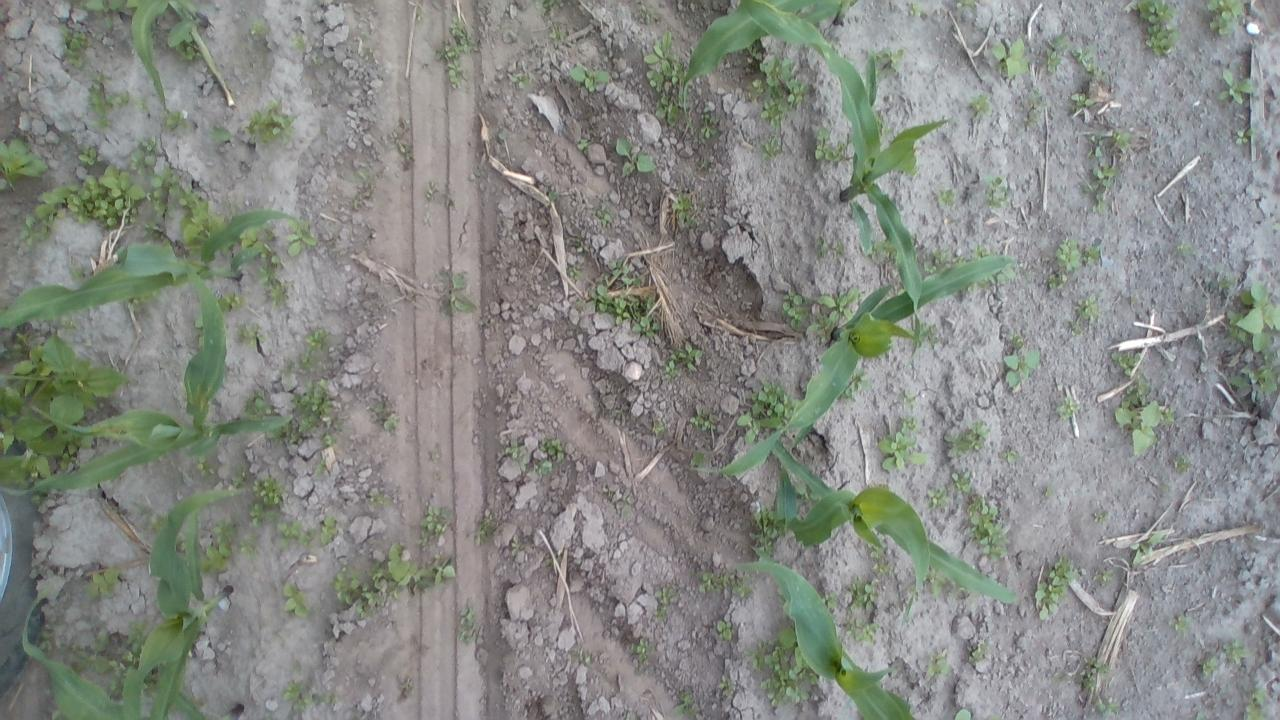Maize: (742, 2, 956, 343), (0, 253, 291, 496), (719, 257, 1014, 474), (771, 441, 1018, 606), (2, 209, 299, 328), (20, 588, 245, 720), (730, 560, 914, 720), (121, 490, 233, 719), (685, 0, 852, 88), (130, 0, 208, 109)
Weeds: (0, 328, 134, 485), (329, 540, 458, 617), (21, 162, 147, 238), (583, 261, 663, 338), (641, 30, 690, 130), (752, 628, 811, 710), (823, 576, 884, 646), (747, 54, 807, 122), (1225, 280, 1280, 352), (436, 12, 484, 94), (1114, 398, 1172, 456), (288, 380, 339, 443), (736, 380, 792, 437), (87, 68, 133, 132), (880, 409, 925, 472), (0, 138, 48, 195), (964, 494, 1008, 556), (174, 188, 224, 241), (1037, 553, 1075, 620), (200, 517, 240, 580), (1047, 240, 1100, 286), (1134, 0, 1178, 55), (70, 626, 114, 680), (250, 97, 300, 143), (1082, 160, 1120, 218), (1080, 660, 1116, 716), (148, 164, 179, 229), (1006, 335, 1040, 392), (258, 244, 290, 304), (817, 290, 857, 336), (1232, 360, 1280, 398), (439, 272, 479, 317), (614, 138, 658, 178), (990, 36, 1030, 80), (942, 421, 988, 459), (750, 510, 783, 558), (696, 564, 750, 592), (422, 504, 456, 548), (1205, 0, 1242, 36), (812, 128, 848, 164), (1218, 68, 1254, 104), (650, 581, 680, 623), (283, 577, 313, 618), (120, 620, 146, 667), (666, 340, 701, 374), (568, 67, 610, 95), (300, 327, 328, 369), (1070, 296, 1101, 332), (534, 435, 565, 471), (130, 140, 160, 177), (780, 293, 808, 332), (668, 684, 699, 719), (62, 28, 90, 66), (1046, 27, 1068, 75), (369, 397, 398, 432), (284, 221, 316, 252), (252, 476, 286, 504), (1244, 684, 1270, 720), (670, 191, 701, 221), (89, 568, 120, 596), (922, 650, 949, 681), (474, 514, 500, 546), (1112, 350, 1144, 376), (241, 224, 277, 246), (240, 323, 268, 351), (283, 680, 309, 710), (877, 46, 902, 77), (532, 0, 575, 18), (1127, 534, 1163, 555), (1015, 87, 1047, 110), (1125, 376, 1151, 403), (868, 547, 893, 575), (814, 239, 849, 259), (278, 515, 300, 546), (246, 501, 272, 527), (240, 530, 264, 558), (320, 516, 340, 549), (982, 187, 1009, 210), (970, 90, 994, 115), (460, 602, 476, 638), (219, 290, 245, 312), (970, 640, 996, 662), (505, 434, 527, 458), (692, 408, 713, 433), (1071, 47, 1093, 70), (197, 453, 216, 479), (699, 112, 718, 138), (38, 627, 56, 654), (1090, 132, 1108, 158), (952, 471, 974, 492), (1057, 397, 1079, 418), (715, 616, 734, 640), (1224, 640, 1248, 659), (84, 0, 124, 11), (1199, 654, 1218, 677), (877, 242, 898, 262), (1172, 450, 1192, 471), (549, 24, 568, 46), (926, 487, 945, 509), (310, 692, 334, 709), (252, 18, 272, 38), (162, 109, 183, 128), (1068, 93, 1094, 108), (78, 150, 102, 166), (719, 672, 735, 696), (764, 138, 783, 158), (1218, 266, 1235, 288), (1170, 615, 1189, 634), (212, 126, 232, 144), (630, 8, 651, 25), (567, 265, 584, 285), (1093, 567, 1112, 584), (1113, 127, 1130, 146), (178, 46, 198, 62), (932, 248, 948, 268), (1026, 110, 1042, 130), (998, 448, 1020, 462), (689, 449, 707, 465), (940, 188, 956, 206), (952, 706, 972, 720), (576, 138, 592, 155), (1236, 128, 1251, 146), (515, 70, 529, 89), (1090, 509, 1110, 522), (638, 640, 654, 656), (904, 1, 920, 16), (973, 243, 989, 258), (652, 418, 666, 435), (1175, 238, 1190, 253), (594, 210, 610, 224), (136, 94, 148, 109), (370, 494, 385, 505), (438, 270, 452, 280), (956, 0, 978, 6), (1042, 487, 1052, 500), (990, 176, 1001, 186), (298, 36, 306, 49), (548, 188, 556, 198)
